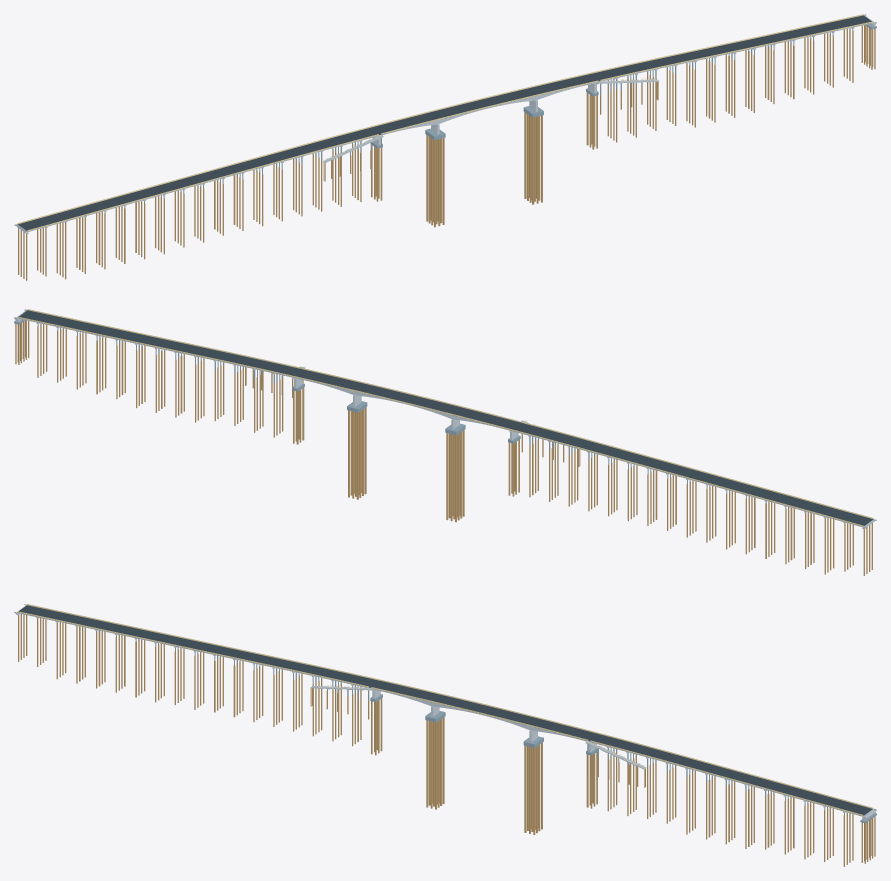
The model's file is bridge.glb.
3 views of the same model, one above another, from view 1: azimuth 30°, elevation 25°; view 2: azimuth 150°, elevation 25°; view 3: azimuth 330°, elevation 25° (orthographic).
Visible parts, largest first — view 1: 桩基, 桥面铺装, 护栏, 墩台 (×2), 引桥空心板; view 2: 桩基, 桥面铺装, 护栏, 墩台 (×2), 引桥空心板; view 3: 桩基, 桥面铺装, 护栏, 墩台 (×2), 引桥空心板.
Boxes of the visible parts, x1,y1,x2,y2 form: 桩基: (18, 25, 875, 280); 桥面铺装: (18, 15, 871, 230); 护栏: (17, 14, 873, 231); 墩台 (×2): (14, 14, 876, 234); 引桥空心板: (28, 23, 872, 231); 桩基: (15, 320, 872, 575); 桥面铺装: (19, 310, 872, 525); 护栏: (17, 309, 873, 526); 墩台 (×2): (14, 309, 876, 529); 引桥空心板: (18, 318, 863, 527); 桩基: (18, 614, 875, 866); 桥面铺装: (19, 605, 872, 815); 护栏: (17, 604, 873, 815); 墩台 (×2): (14, 604, 876, 820); 引桥空心板: (17, 612, 862, 816).
Bounding box in the file's own units: 867 × 107 × 23.
